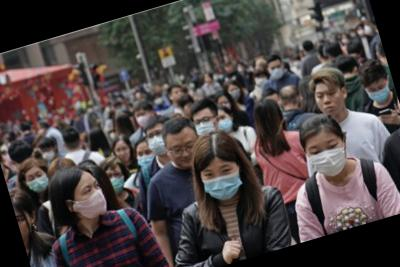with_mask: (304, 134, 354, 184), (199, 157, 249, 206), (69, 178, 112, 227), (144, 126, 174, 161), (192, 113, 222, 144), (365, 79, 395, 108), (25, 169, 53, 198), (105, 166, 130, 197), (133, 146, 159, 172), (133, 108, 155, 131), (216, 111, 236, 134), (267, 63, 287, 81), (40, 145, 57, 163), (254, 71, 271, 88), (228, 85, 244, 103), (217, 97, 233, 115), (356, 25, 368, 39), (340, 33, 352, 46), (154, 94, 165, 106), (349, 27, 359, 39), (236, 64, 246, 75), (86, 105, 96, 115), (189, 79, 197, 91), (293, 58, 302, 68)
without_mask: (166, 135, 204, 174), (312, 83, 350, 121), (112, 143, 133, 167), (170, 87, 186, 104)
